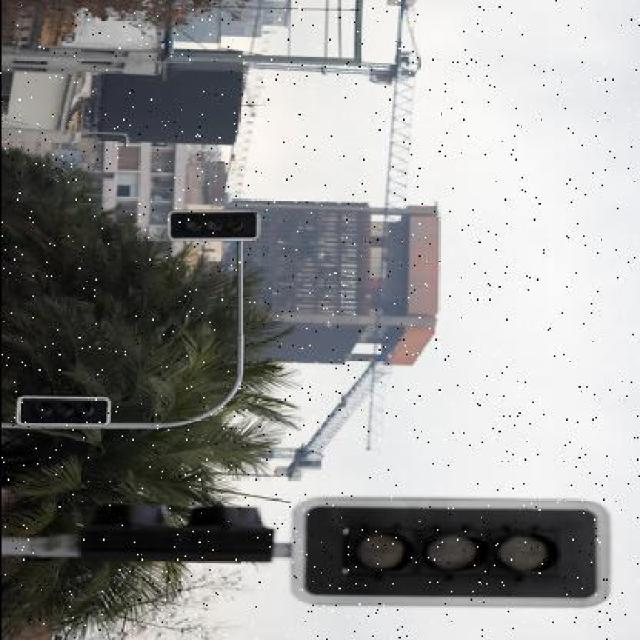traffic-light: (288, 490, 618, 611), (15, 386, 146, 438), (161, 204, 266, 253)
